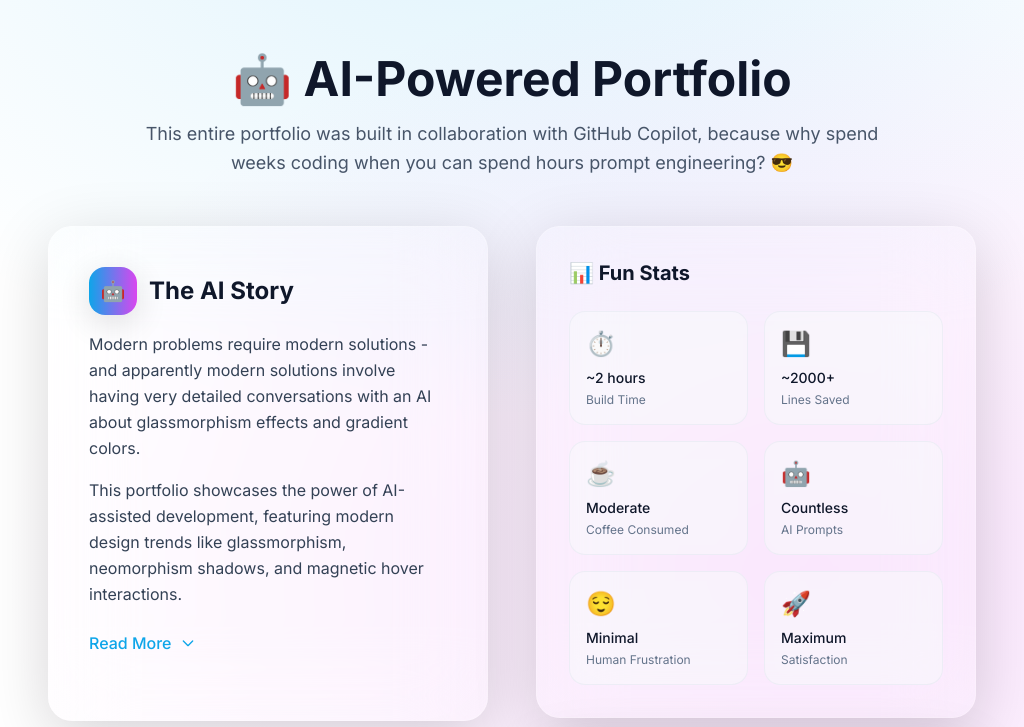
it: AIPortfolioInfo Component › shows benefits of AI-assisted development
// Expandir contenido primero
Step 1. Click the button "Read More" → (142, 643), box left=89, top=630, right=196, bottom=656
(page scrolled)
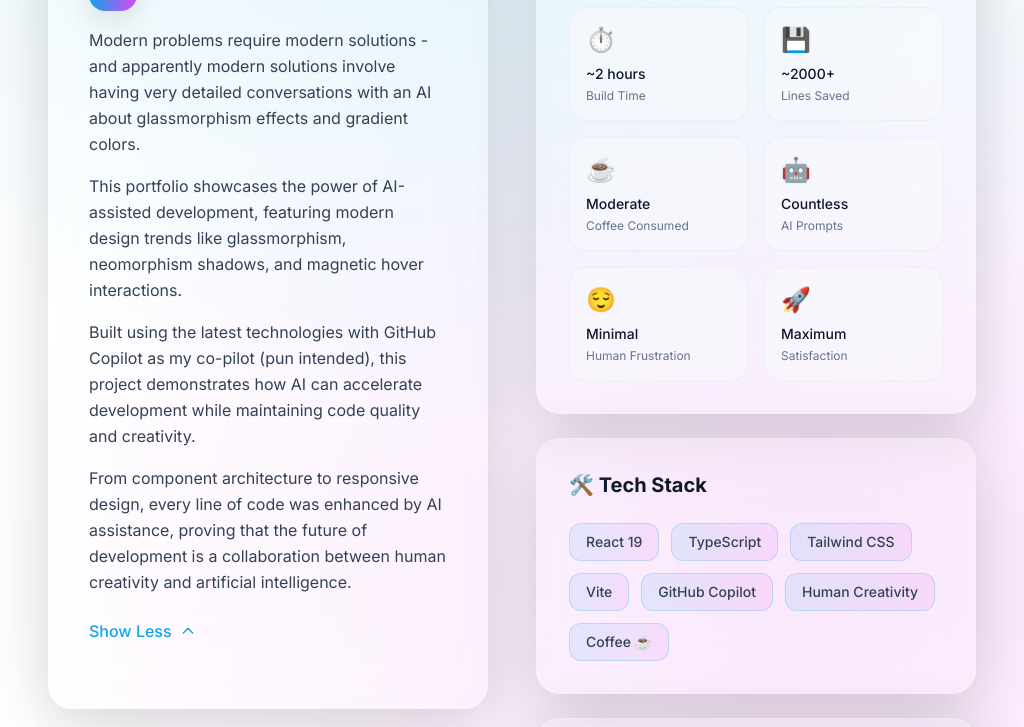
Expected: the text "AI can accelerate development" is shown, left=89, top=322, right=436, bottom=446
